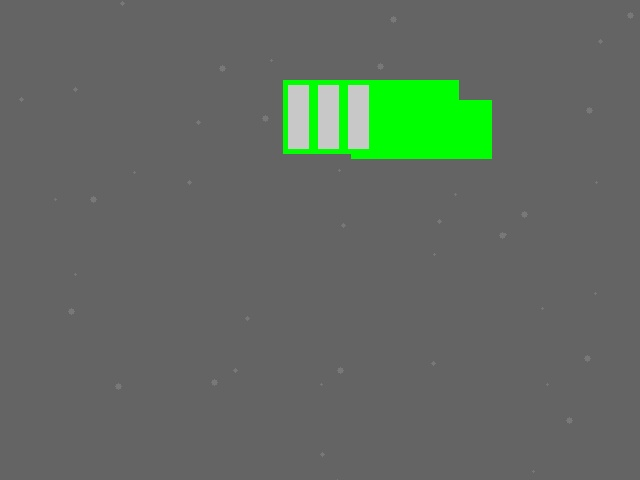bus: (283, 80, 458, 153), (351, 100, 491, 158)
